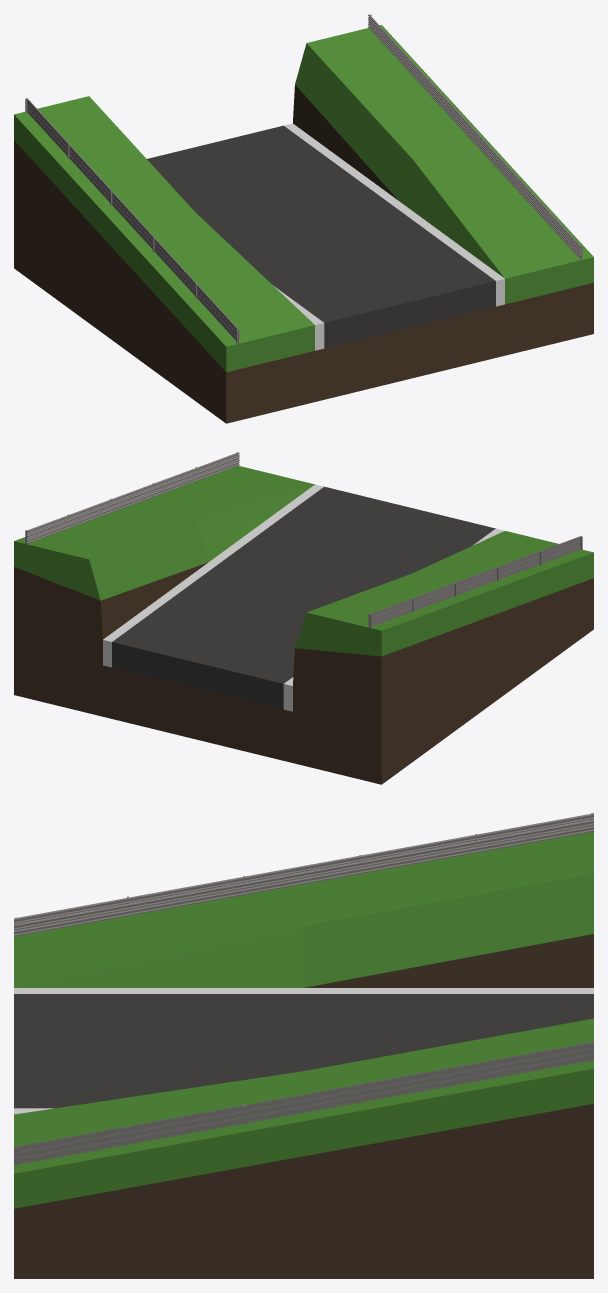
The model's file is tiles-tile-race-track-cliff-entrance.glb.
3 renders of one model, top to bottom at view 1: azimuth 30°, elevation 25°; view 2: azimuth 150°, elevation 25°; view 3: azimuth 270°, elevation 25°, orthographic. The views are drawn at different scales.
Visible parts, largest first — view 1: tile-race-track-cliff-entrance; view 2: tile-race-track-cliff-entrance; view 3: tile-race-track-cliff-entrance.
Part boxes in pixels (bbox=[...]): tile-race-track-cliff-entrance: bbox=[14, 14, 593, 423]; tile-race-track-cliff-entrance: bbox=[14, 452, 593, 784]; tile-race-track-cliff-entrance: bbox=[14, 813, 593, 1278].
Bounding box in the file's own units: 30 × 13.05 × 30.
